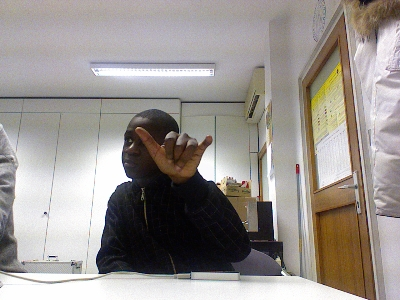六六六: (133, 124, 213, 180)
